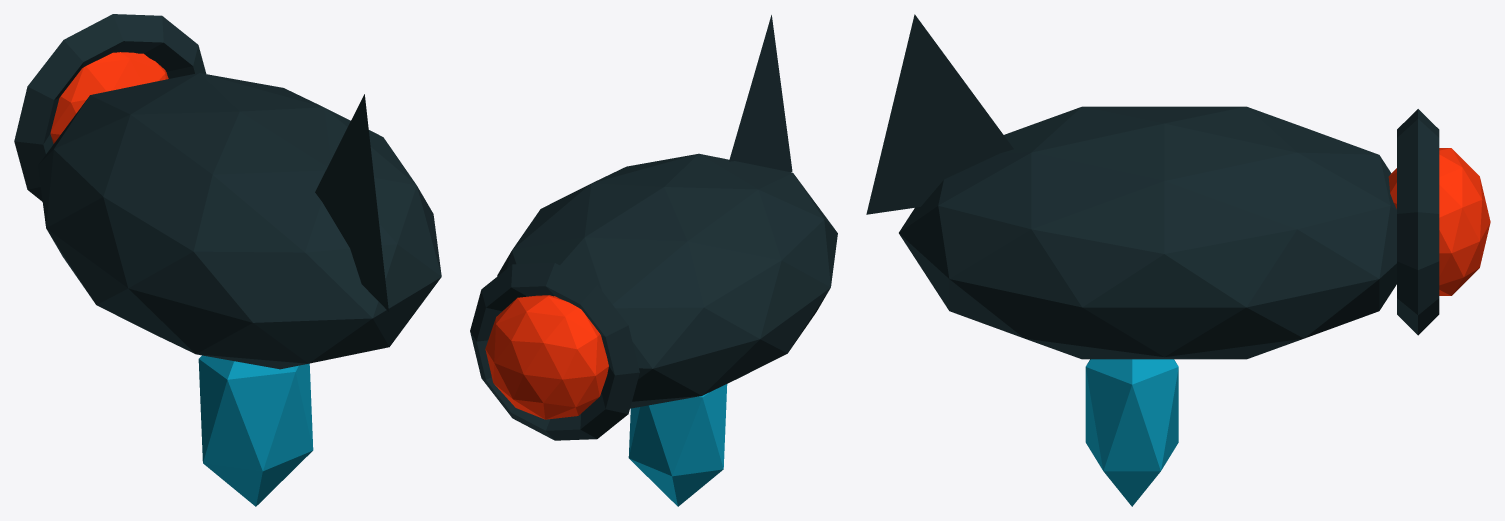
The model's file is MoveEnemy_Body.obj.
3 renders of one model, left to right at view 1: azimuth 30°, elevation 25°; view 2: azimuth 150°, elevation 25°; view 3: azimuth 270°, elevation 25°, orthographic. The views are drawn at different scales.
Visible parts, largest first — view 1: MoveEnemy_Body; view 2: MoveEnemy_Body; view 3: MoveEnemy_Body.
Boxes of the visible parts, bbox=[...] form: MoveEnemy_Body: bbox=[14, 14, 441, 506]; MoveEnemy_Body: bbox=[470, 15, 837, 506]; MoveEnemy_Body: bbox=[866, 14, 1490, 506].
Bounding box in the file's own units: 0.6668 × 1.03 × 1.18.
3 materials, 3 textured.
